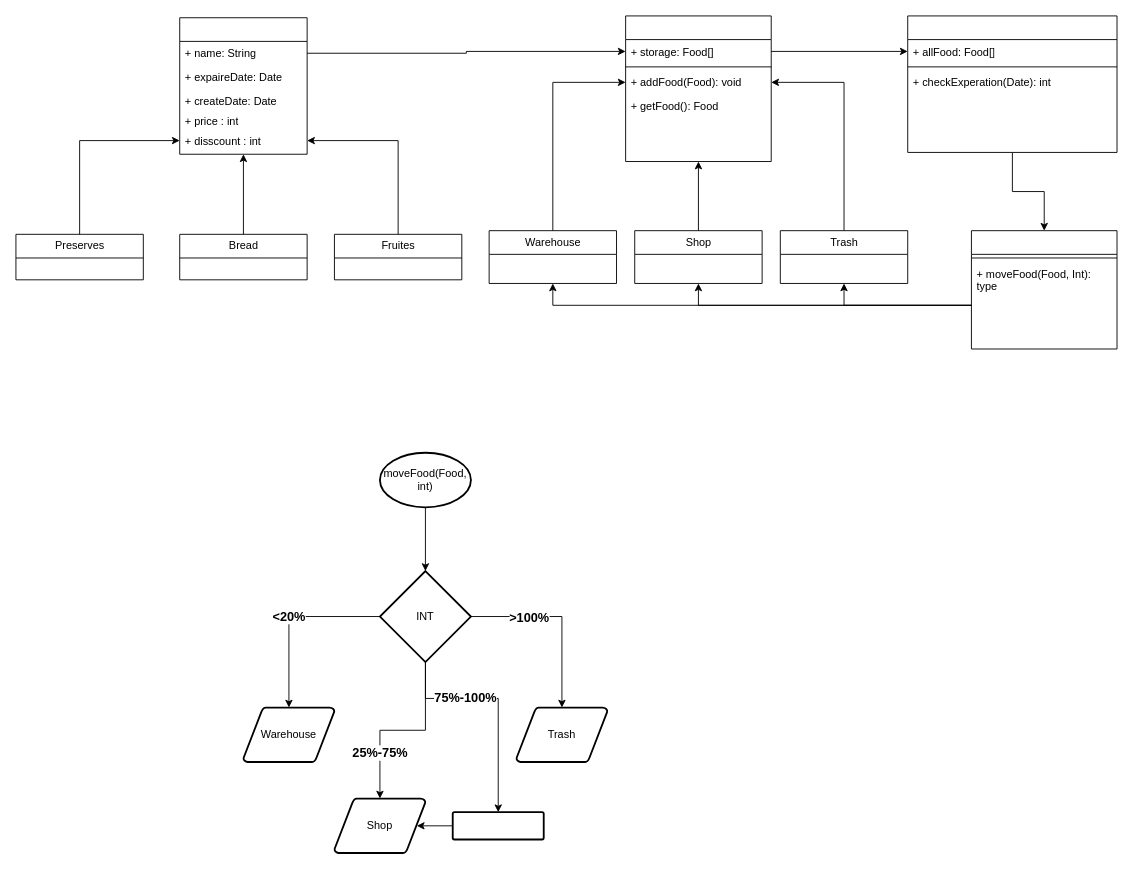
Some shapes in this 1133 by 870 pixel diagram are drawn without their labels. The box of each missing label's shape, as (x1, y1, x2, y2) in pixels:
add disscount: (451, 811, 544, 840)
ControllQuality: (907, 15, 1117, 152)
Food: (179, 17, 307, 154)
FoodStorage: (625, 15, 771, 162)
Forwarder: (971, 230, 1117, 349)
